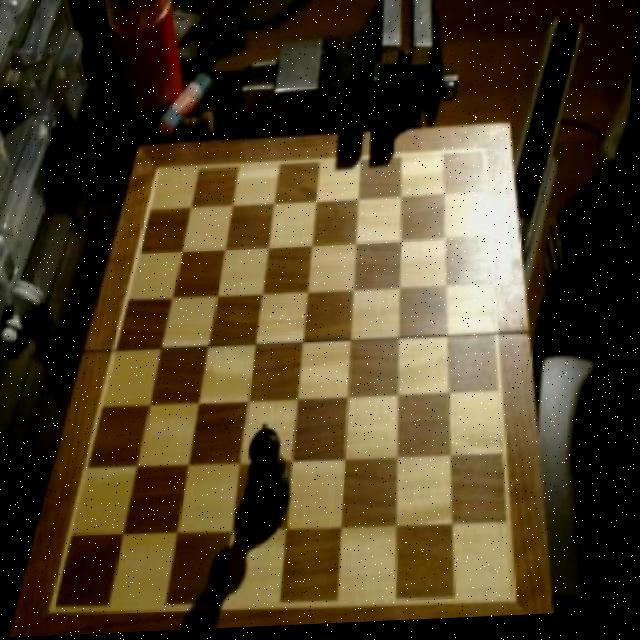black-bishop: (243, 422, 305, 539)
